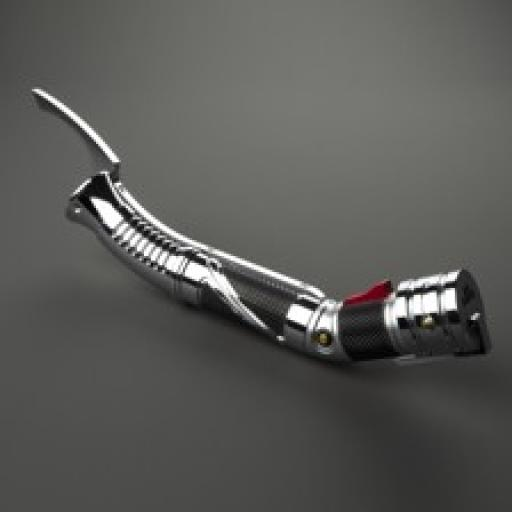lightsaber: (28, 83, 492, 360)
